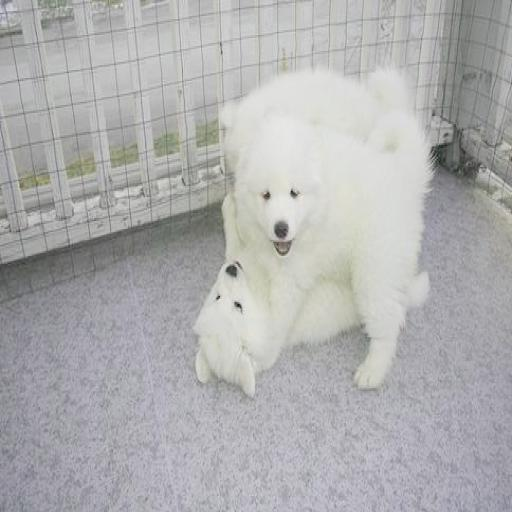dog_face: (248, 155, 307, 258)
